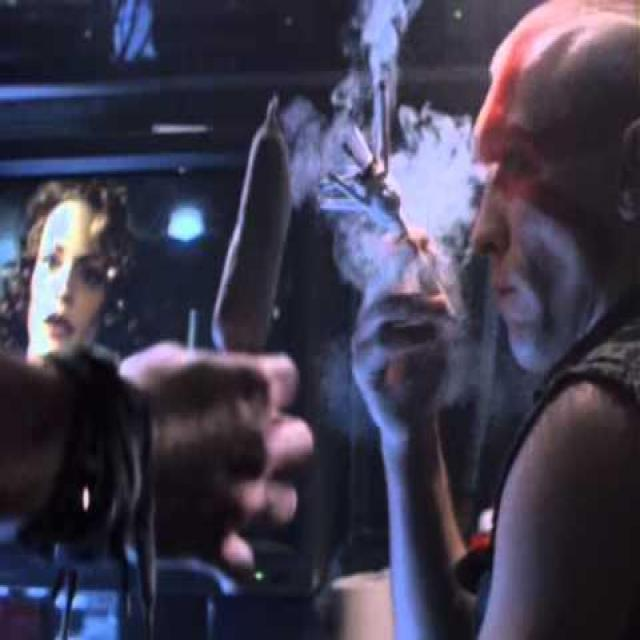rokok: (338, 53, 462, 334)
